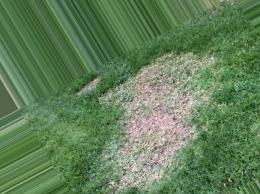patch: (137, 78, 166, 149), (117, 136, 156, 183), (154, 59, 188, 102), (166, 102, 185, 145)
